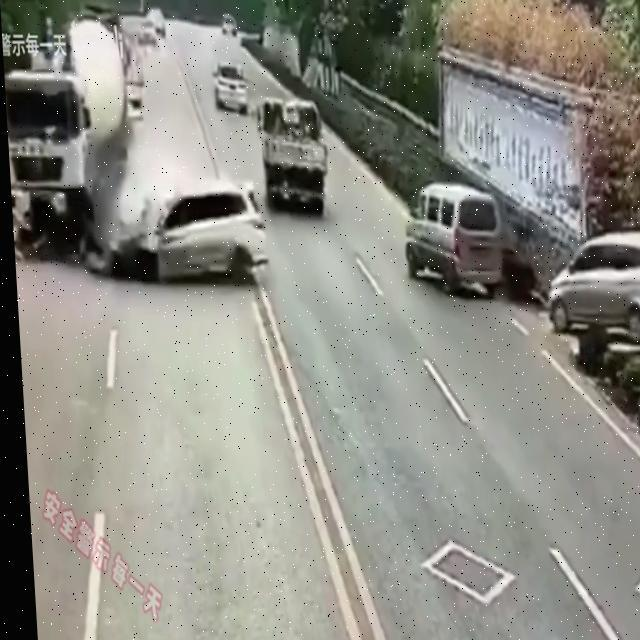multiple_accident: (0, 148, 292, 290)
